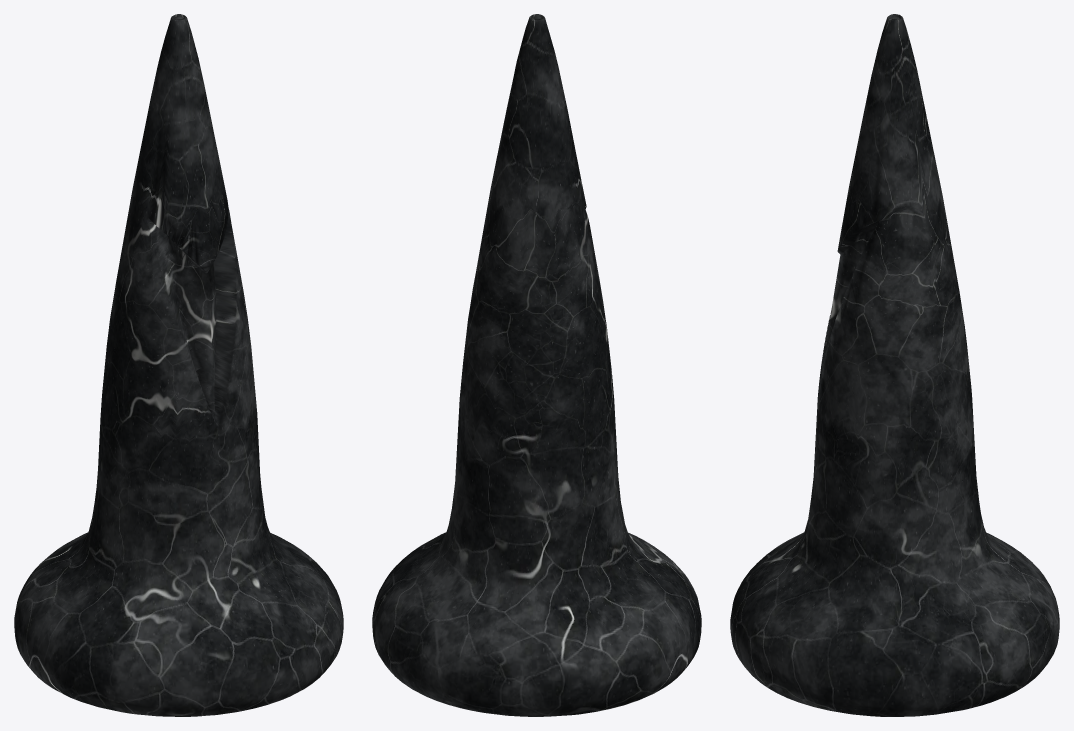
Rendered from king-black.glb.
3 renders of one model, left to right at view 1: azimuth 30°, elevation 25°; view 2: azimuth 150°, elevation 25°; view 3: azimuth 270°, elevation 25°, orthographic.
Visible parts, largest first — view 1: Serpentina_king_black; view 2: Serpentina_king_black; view 3: Serpentina_king_black.
Boxes of the visible parts, x1,y1,x2,y2 form: Serpentina_king_black: [14, 14, 343, 716]; Serpentina_king_black: [372, 14, 701, 716]; Serpentina_king_black: [730, 14, 1059, 716].
Size of the model in its own units: 0.7721 by 1.65 by 0.7725.
1 material, 1 textured.
